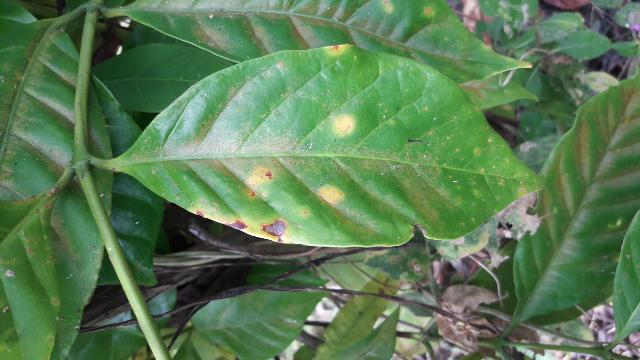rust_level_3: (118, 46, 532, 244)
